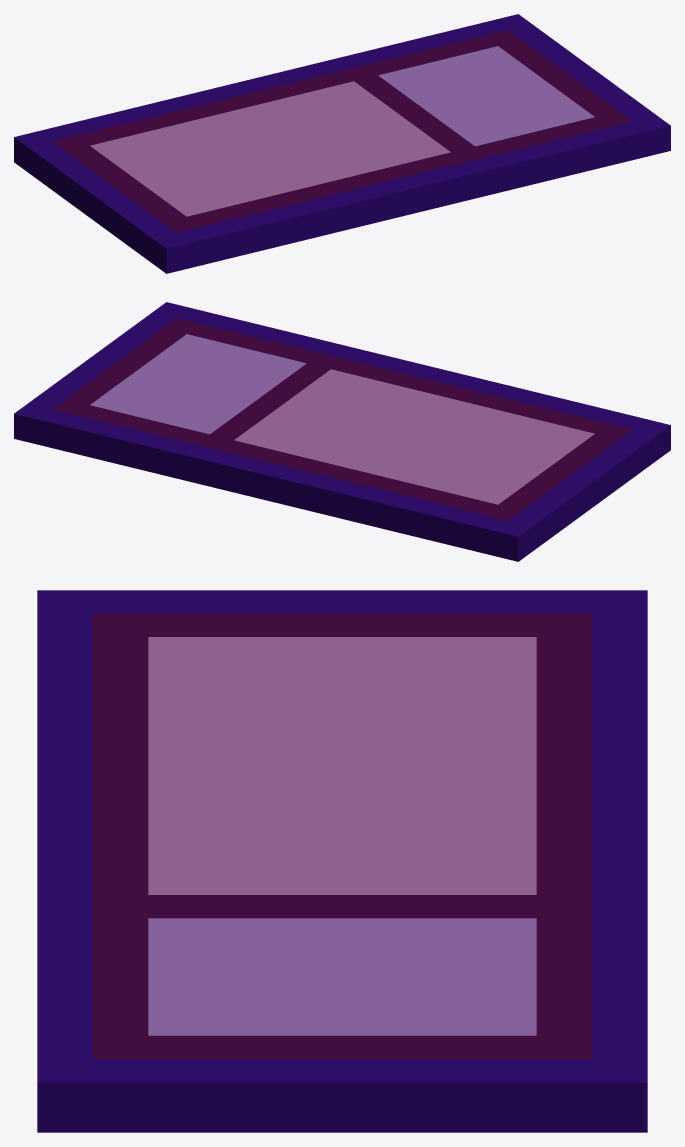
The model's file is Card00.gltf.
3 views of the same model, one above another, from view 1: azimuth 30°, elevation 25°; view 2: azimuth 150°, elevation 25°; view 3: azimuth 270°, elevation 25° (orthographic). The views are drawn at different scales.
Parts seen in each view (by area): view 1: Layer.1; view 2: Layer.1; view 3: Layer.1.
Part boxes in pixels (bbox=[...]): Layer.1: bbox=[14, 14, 670, 273]; Layer.1: bbox=[14, 302, 670, 561]; Layer.1: bbox=[37, 590, 647, 1132].
Size of the model in its own units: 21 by 1 by 11.
